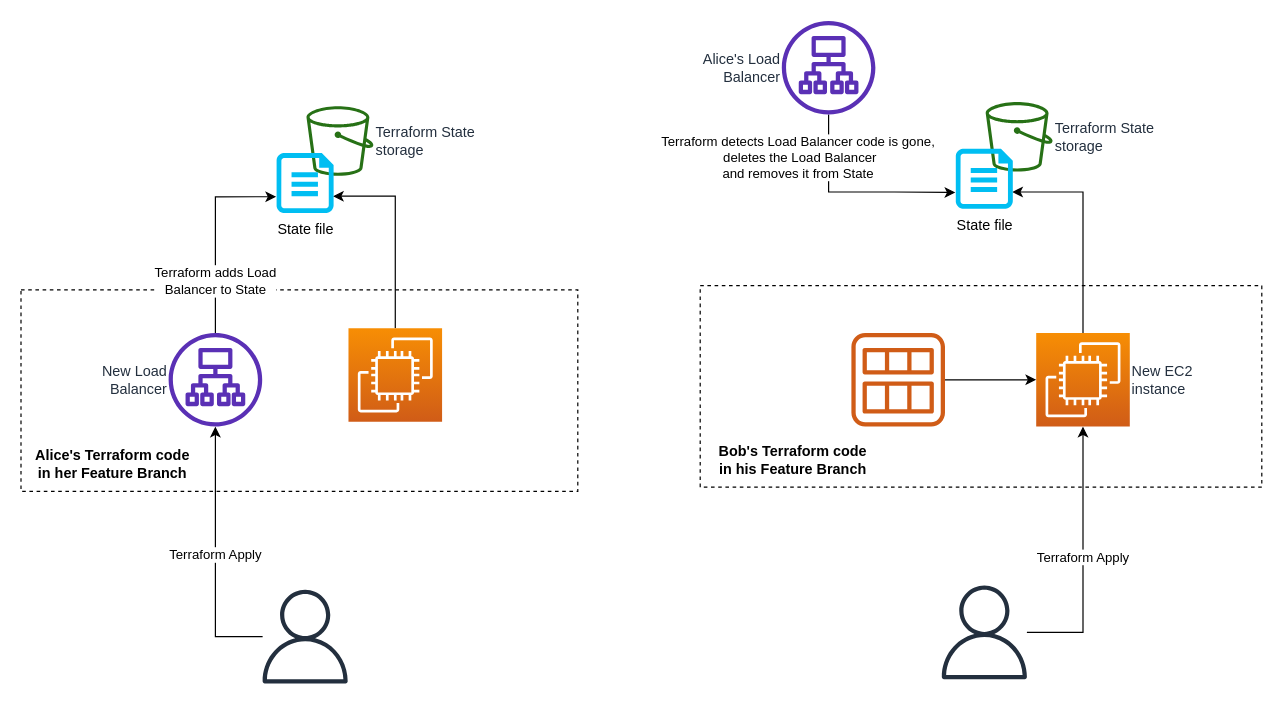
This 1283x728 diagram has some shape labels left out. Each missing label, with the centre of its shape:
Alice: (x=304, y=636)
Bob: (x=984, y=632)
Existing EC2 instance: (x=394, y=374)
New AMI: (x=897, y=379)
